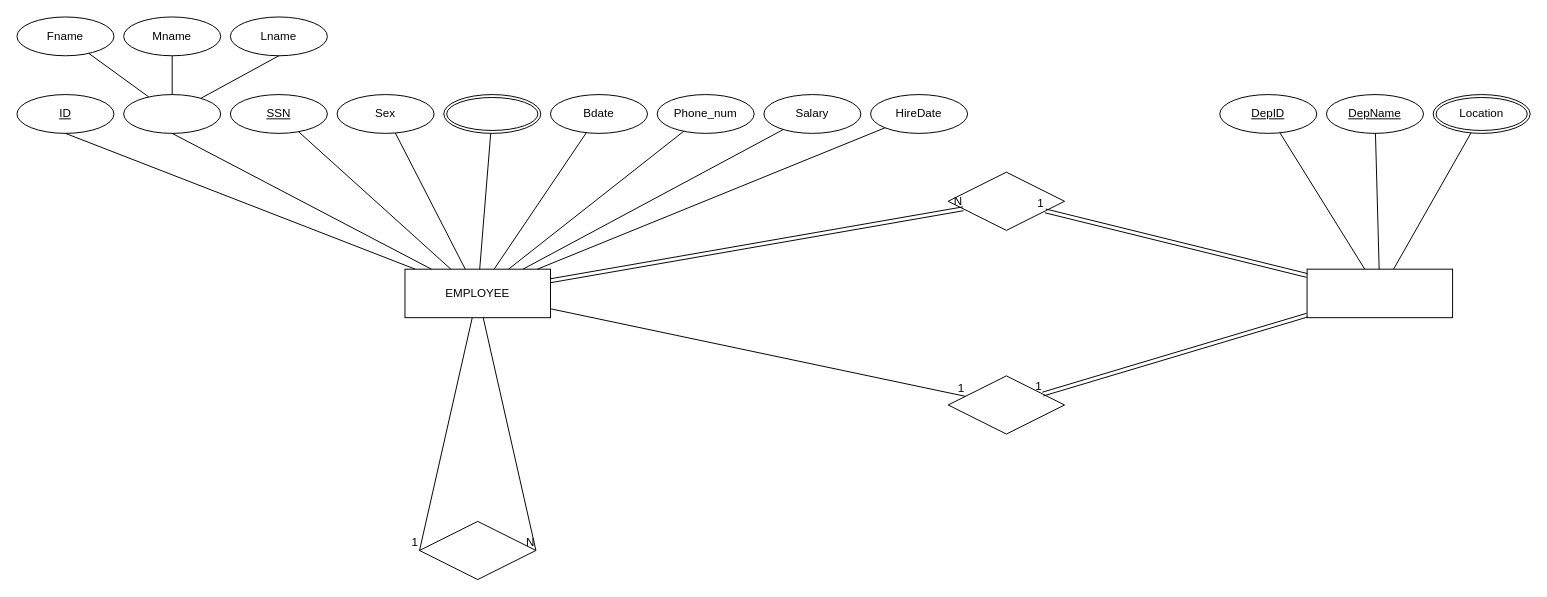
The diagram is 1547 pixels wide and 597 high, and some of its shapes have lost their labels. The shapes that lost their labels are listed below. From the top down, each one's centre as x and y in pixels, then its label:
At point (172, 113): "Name".
At point (492, 113): "Address".
At point (1006, 200): "Works_for".
At point (1379, 293): "Department".
At point (1006, 404): "Manages".
At point (477, 550): "Supervision".
